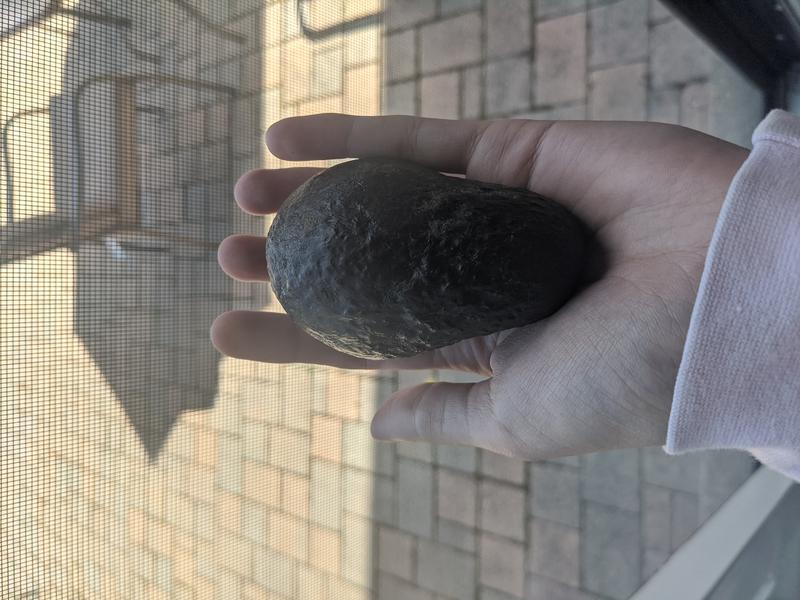avocado: (264, 158, 613, 361)
